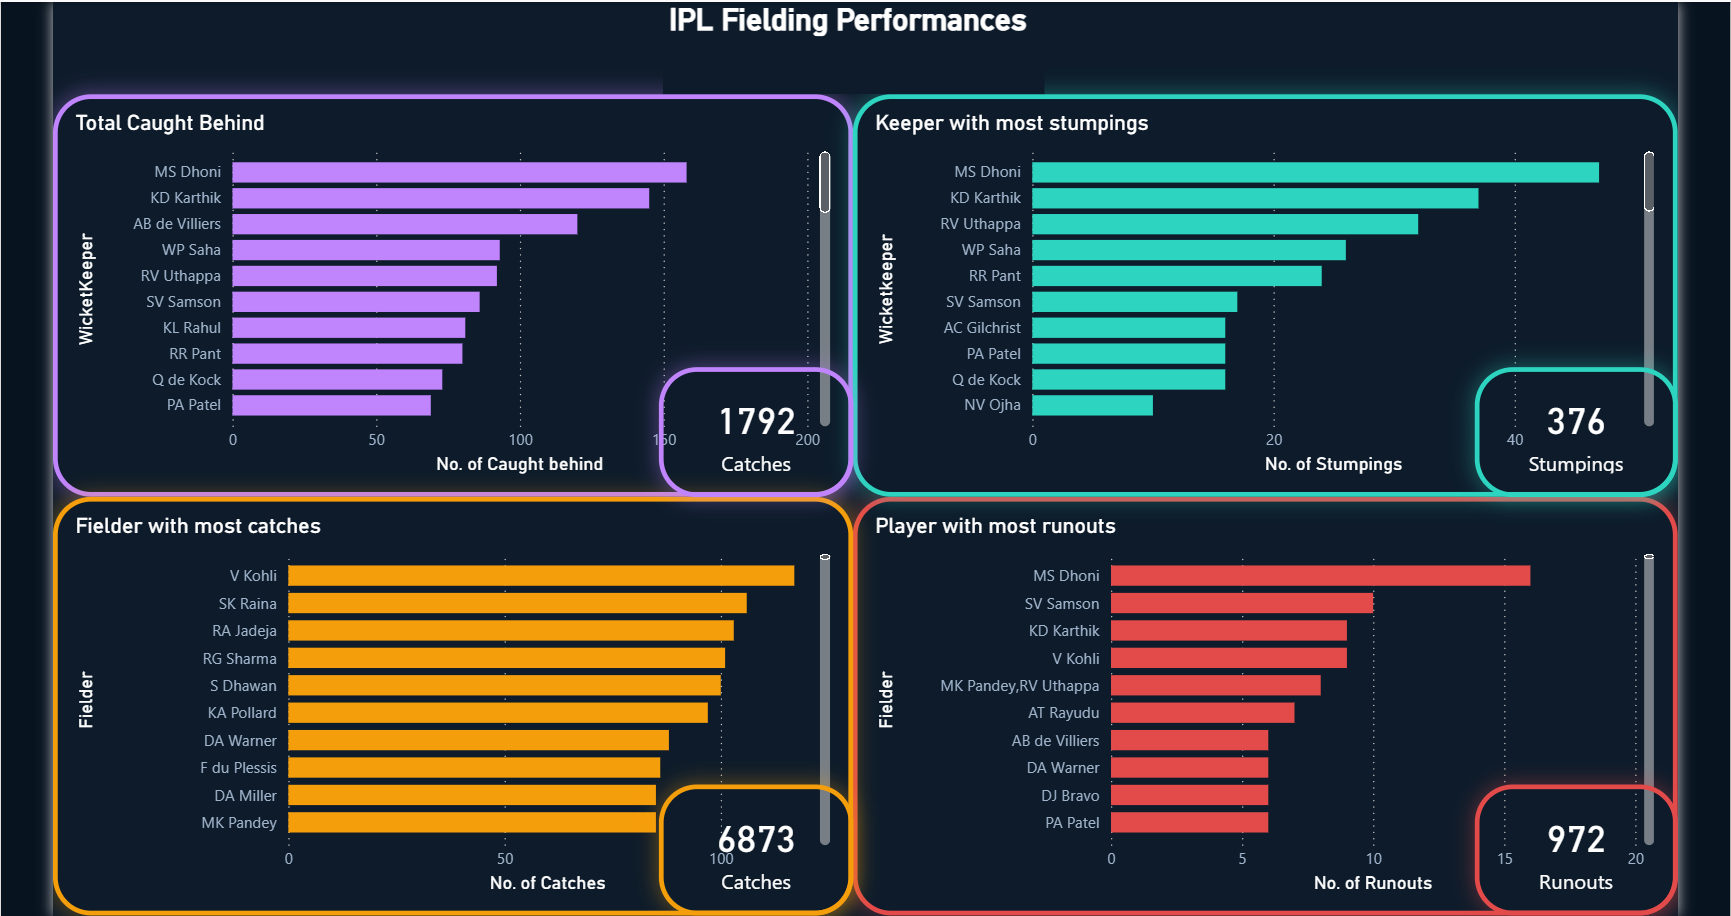

The dashboard page shown, as its layout file describes it:
{"tool":"powerbi","page":{"name":"Page 3","canvas":[1280,720],"ordinal":2},"visuals":[{"type":"barChart","title":"Total Caught Behind","fields":{"Category":["most_caught_behind.wicket_keeper"],"Y":["Sum(most_caught_behind.caught_behind_count)"]},"box":[0,72.9,630.2,317],"z":0},{"type":"barChart","title":"Player with most runouts","fields":{"Y":["Sum(most_runouts.runout_counts)"],"Category":["most_runouts.fielder"]},"box":[630.2,389.9,649.4,329.8],"z":1000},{"type":"barChart","title":"Fielder with most catches","fields":{"Y":["Sum(top_catch_takers.count)"],"Category":["top_catch_takers.fielders"]},"box":[0,389.9,630.2,329.8],"z":2000},{"type":"barChart","title":"Keeper with most stumpings","fields":{"Y":["Sum(most_stumpings.stumpings)"],"Category":["most_stumpings.wicketkeeper"]},"box":[630.2,72.9,649.4,317],"z":3000},{"type":"card","fields":{"Values":["Sum(top_catch_takers.count)"]},"box":[476.8,616.2,153.4,103.5],"z":4000},{"type":"card","fields":{"Values":["Sum(most_stumpings.stumpings)"]},"box":[1119.9,287.6,159.8,102.3],"z":5000},{"type":"card","fields":{"Values":["Sum(most_caught_behind.caught_behind_count)"]},"box":[476.8,287.6,153.4,102.3],"z":6000},{"type":"card","fields":{"Values":["Sum(most_runouts.runout_counts)"]},"box":[1119.9,616.2,159.8,103.5],"z":7000},{"type":"textbox","title":"IPL Fielding Performances ","box":[480.7,0,300.4,72.9],"z":8000}]}

Visuals, with their boxes in screenshot pixels (x1, y1, x2, y2):
"Total Caught Behind" barChart: select_region(54, 96, 844, 493)
"Player with most runouts" barChart: select_region(844, 493, 1658, 907)
"Fielder with most catches" barChart: select_region(54, 493, 844, 907)
"Keeper with most stumpings" barChart: select_region(844, 96, 1658, 493)
card - Sum(top_catch_takers.count): select_region(652, 777, 844, 907)
card - Sum(most_stumpings.stumpings): select_region(1458, 365, 1658, 493)
card - Sum(most_caught_behind.caught_behind_count): select_region(652, 365, 844, 493)
card - Sum(most_runouts.runout_counts): select_region(1458, 777, 1658, 907)
"IPL Fielding Performances " textbox: select_region(657, 5, 1033, 96)
